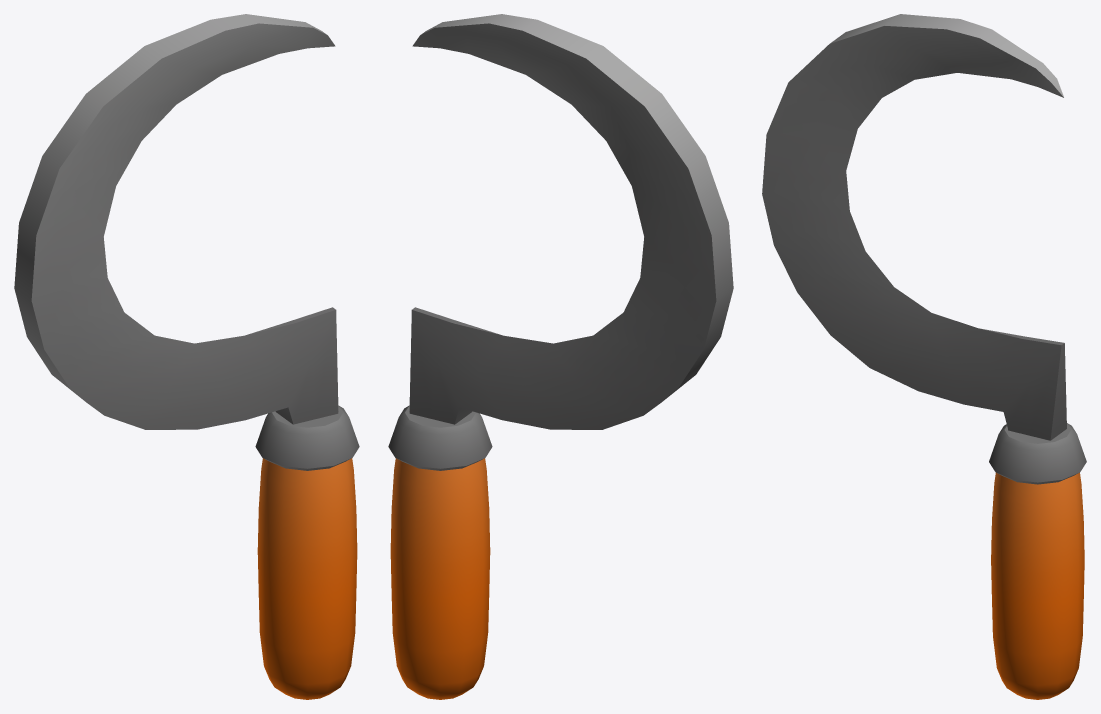
The model's file is Farm_Tool_Sickle_01.glb.
The picture shows the model from 3 angles, left to right: view 1: azimuth 30°, elevation 25°; view 2: azimuth 150°, elevation 25°; view 3: azimuth 330°, elevation 25°; orthographic projection. The views are drawn at different scales.
Visible parts, largest first — view 1: Farm_Tool_Sickle_01; view 2: Farm_Tool_Sickle_01; view 3: Farm_Tool_Sickle_01.
Part boxes in pixels (x1,y1,x2,y2): Farm_Tool_Sickle_01: [14, 14, 359, 699]; Farm_Tool_Sickle_01: [388, 14, 733, 699]; Farm_Tool_Sickle_01: [762, 14, 1086, 699].
Size of the model in its own units: 0.4514 by 0.9024 by 0.1236.
1 material, 1 textured.
